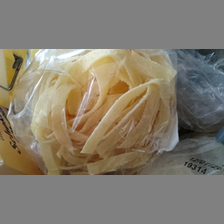pasta: (19, 50, 178, 174)
